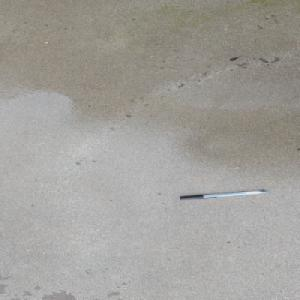Pen: (179, 189, 268, 200)
